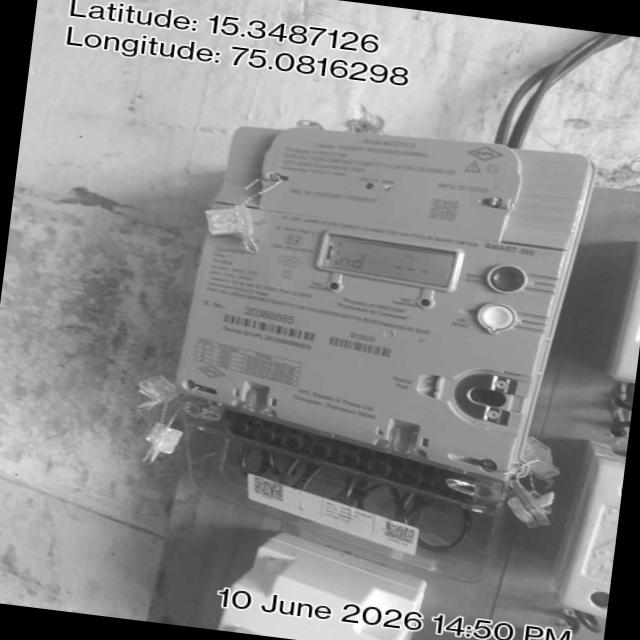meter: (176, 112, 595, 482)
